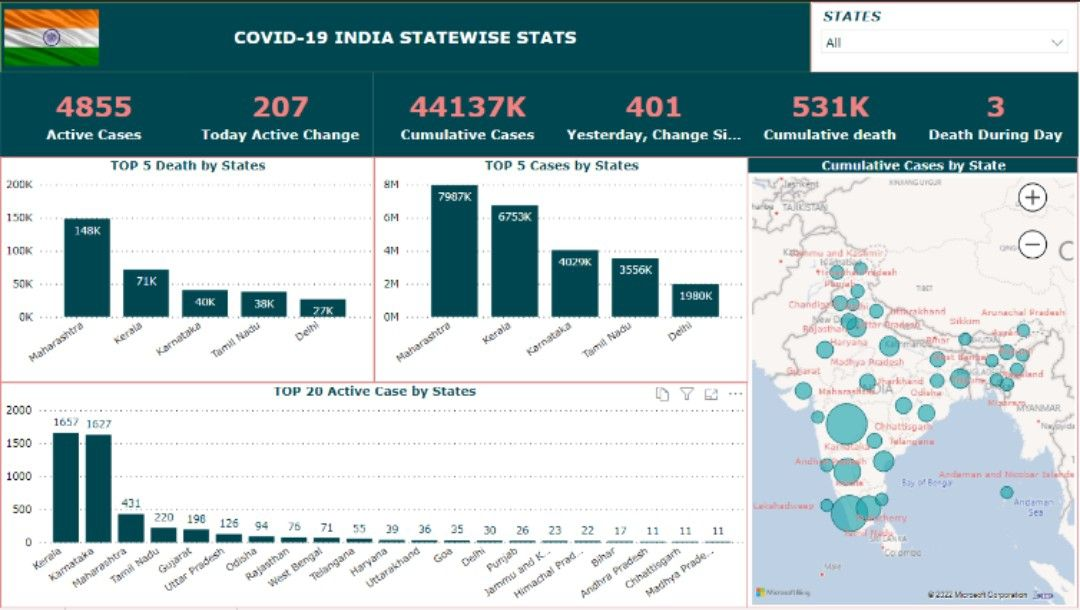

This screenshot's page, from the dashboard's own definition file:
{"tool":"powerbi","page":{"name":"Page 1","canvas":[1440,759],"ordinal":0},"visuals":[{"type":"columnChart","title":"TOP 5 Death by States","fields":{"Y":["Sum(COVID-19.Cumulative death)"],"Category":["COVID-19.State"]},"box":[44.3,145.9,404.9,288.5],"z":0},{"type":"azureMap","fields":{"Category":["COVID-19.State"],"Size":["Sum(COVID-19.Cumulative Cases)"]},"box":[937.7,155.7,444.3,577],"z":1000},{"type":"columnChart","title":"TOP 5 Cases by States","fields":{"Category":["COVID-19.State"],"Y":["Sum(COVID-19.Cumulative Cases)"]},"box":[483.6,144.3,404.9,288.5],"z":2000},{"type":"columnChart","title":"TOP 10 Active Case by States","fields":{"Category":["COVID-19.State"],"Y":["Sum(COVID-19.Active TT)"]},"box":[44.3,450.8,404.9,291.8],"z":3000},{"type":"image","box":[0,0,59,36.1],"z":4000},{"type":"columnChart","title":"TOP 10 Today''s Active Change Cases by States","fields":{"Y":["Sum(COVID-19.Change TT)"],"Category":["COVID-19.State"]},"box":[483.6,452.5,404.9,291.8],"z":5000},{"type":"textbox","box":[449.2,0,550.8,36.1],"z":6000},{"type":"slicer","fields":{"Values":["COVID-19.State"]},"box":[18.1,54.2,198.6,63.9],"z":7000},{"type":"card","fields":{"Values":["Sum(COVID-19.Active TT)"]},"box":[246.7,41.7,166.7,88.3],"z":8000},{"type":"card","fields":{"Values":["Sum(COVID-19.Change since yesterday)"]},"box":[450,41.7,166.7,88.3],"z":9000},{"type":"card","fields":{"Values":["Sum(COVID-19.Change TT)"]},"box":[653.3,41.7,166.7,88.3],"z":10000},{"type":"card","fields":{"Values":["Sum(COVID-19.Cumulative Cases)"]},"box":[855,41.7,166.7,88.3],"z":11000},{"type":"card","fields":{"Values":["Sum(COVID-19.Cumulative death)"]},"box":[1051.7,41.7,166.7,88.3],"z":12000},{"type":"card","fields":{"Values":["Sum(COVID-19.Death During Day)"]},"box":[1256.7,41.7,166.7,88.3],"z":13000}]}

Visuals, with their boxes on the page's 1440x759 design canvas (x1, y1, x2, y2). These are canvas units, not pixel positions in the 1080x610 screenshot, which may show the page scaled, cropped or inside an application window:
"TOP 5 Death by States" columnChart: rect(44, 146, 449, 434)
azureMap - COVID-19.State x Sum(COVID-19.Cumulative Cases): rect(938, 156, 1382, 733)
"TOP 5 Cases by States" columnChart: rect(484, 144, 888, 433)
"TOP 10 Active Case by States" columnChart: rect(44, 451, 449, 743)
image: rect(0, 0, 59, 36)
"TOP 10 Today''s Active Change Cases by States" columnChart: rect(484, 452, 888, 744)
textbox: rect(449, 0, 1000, 36)
slicer - COVID-19.State: rect(18, 54, 217, 118)
card - Sum(COVID-19.Active TT): rect(247, 42, 413, 130)
card - Sum(COVID-19.Change since yesterday): rect(450, 42, 617, 130)
card - Sum(COVID-19.Change TT): rect(653, 42, 820, 130)
card - Sum(COVID-19.Cumulative Cases): rect(855, 42, 1022, 130)
card - Sum(COVID-19.Cumulative death): rect(1052, 42, 1218, 130)
card - Sum(COVID-19.Death During Day): rect(1257, 42, 1423, 130)
